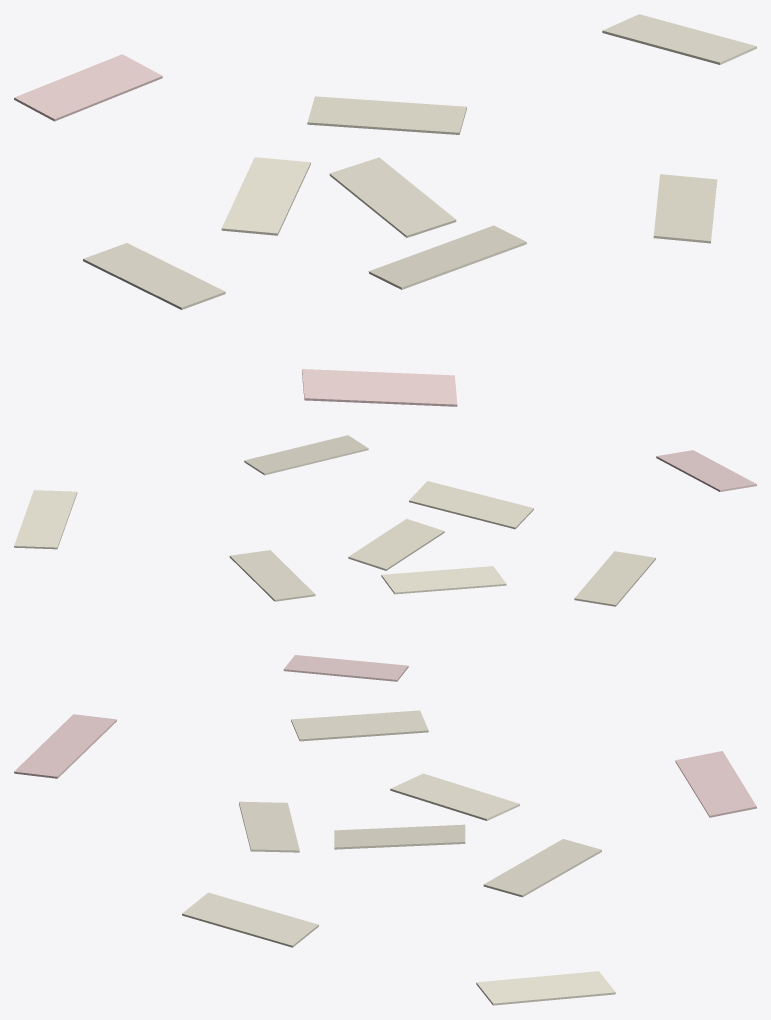
The model's file is receipts.glb.
3 views of the same model, one above another, from view 1: azimuth 30°, elevation 25°; view 2: azimuth 150°, elevation 25°; view 3: azimuth 270°, elevation 25° (orthographic). The views are drawn at different scales.
Parts seen in each view (by area): view 1: receipts; view 2: receipts; view 3: receipts.
Boxes of the visible parts, <box> form: receipts: <box>14,14,756,406</box>; receipts: <box>14,435,756,681</box>; receipts: <box>14,710,756,1005</box>.
Size of the model in its own units: 1.3 by 0.0329 by 1.36.
